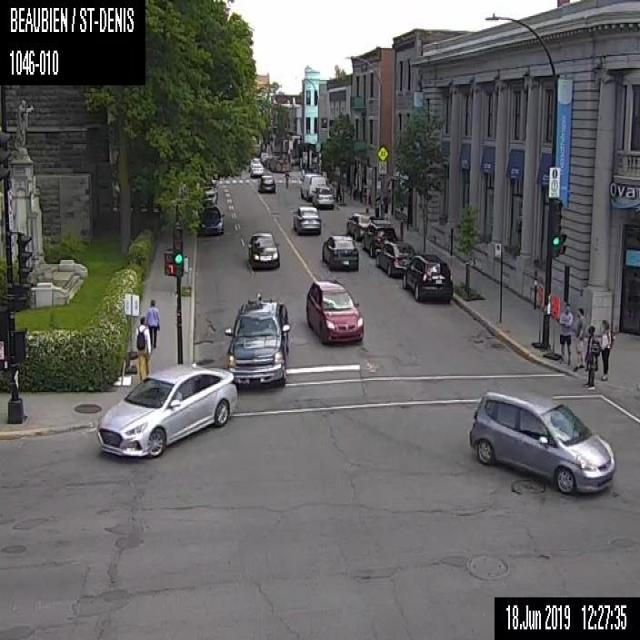construction: (542, 295, 560, 359), (531, 284, 542, 348)
cyclist: (284, 170, 289, 188)
pedestrian: (134, 315, 151, 380), (584, 324, 600, 386), (572, 307, 585, 371), (559, 303, 572, 364), (598, 318, 610, 379), (145, 298, 159, 348), (335, 180, 341, 202)
vehicle: (468, 386, 614, 494), (96, 364, 237, 457), (224, 292, 288, 387), (305, 280, 362, 345), (402, 254, 452, 304), (375, 239, 415, 278), (321, 234, 358, 269), (362, 220, 396, 258), (247, 230, 279, 269), (290, 203, 320, 234), (345, 211, 375, 241), (299, 171, 326, 201), (198, 203, 224, 234), (312, 184, 334, 209), (257, 173, 275, 192), (200, 185, 217, 203), (249, 162, 263, 177)
